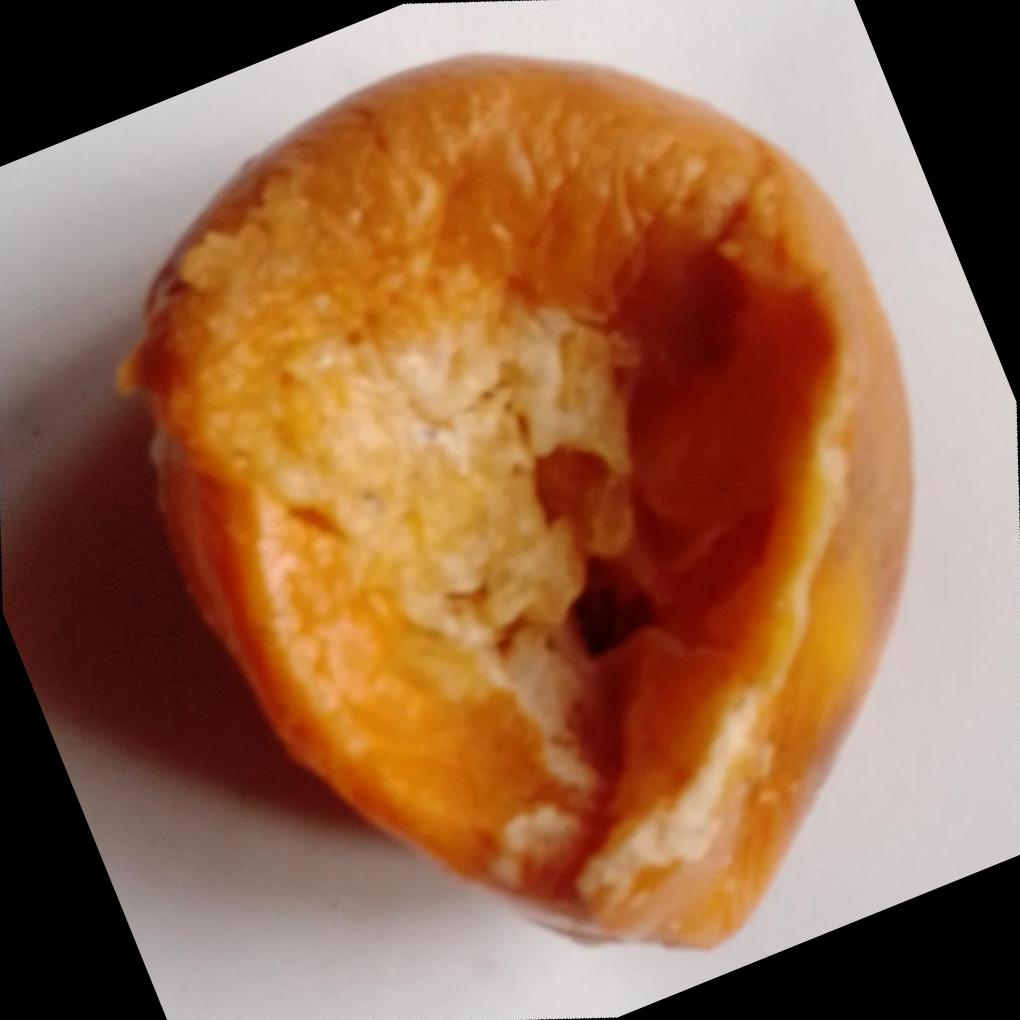FreshOrange: (108, 52, 913, 951)
